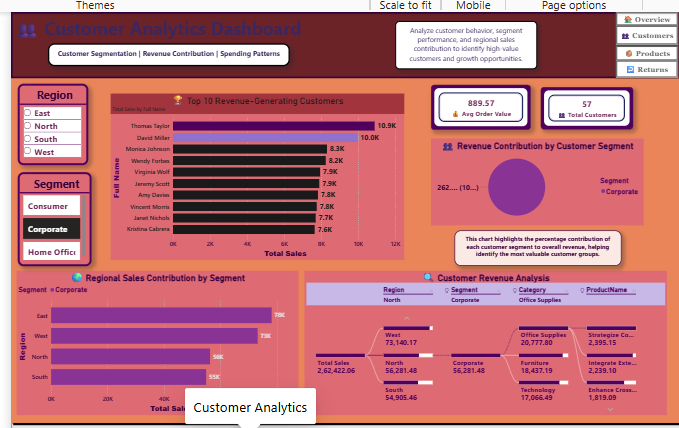

Layout of this report page (visuals, bound fields, positions):
{"tool":"powerbi","page":{"name":"Customer Analytics","canvas":[1800,1150],"ordinal":1},"visuals":[{"type":"textbox","box":[0,0,1798.9,178.8],"z":0},{"type":"cardVisual","fields":{"Data":["Measures_Table.Total Customers"]},"box":[1426.6,200.9,248.8,114.3],"z":1000},{"type":"cardVisual","fields":{"Data":["Measures_Table.Average Order Value"]},"box":[1131.7,197.2,269.1,121.6],"z":2000},{"type":"barChart","title":"🌍 Regional Sales Contribution by Segment","fields":{"Y":["Measures_Table.Total Sales"],"Category":["Customer_Dim.Region"],"Series":["Customer_Dim.Segment"]},"box":[14.7,696.7,759.4,388.9],"z":3000},{"type":"decompositionTreeVisual","title":"🔍 Customer Revenue Analysis","fields":{"Analyze":["Measures_Table.Total Sales"],"ExplainBy":["Customer_Dim.Region","Customer_Dim.Segment","Product_Dim.Category","Product_Dim.ProductName"]},"box":[790.7,696.7,976.9,388.9],"z":4000},{"type":"listSlicer","title":"Region","fields":{"Values":["Region_Dim.RegionName"]},"box":[18.4,193.5,189.8,219.3],"z":5000},{"type":"advancedSlicerVisual","fields":{"Values":["Customer_Dim.Segment"]},"box":[18.1,431.6,199.2,253.5],"z":6000},{"type":"clusteredBarChart","title":"🏆 Top 10 Revenue-Generating Customers","fields":{"Category":["Customer_Dim.Full Name"],"Y":["Measures_Table.Total Sales"]},"box":[267.3,221.2,790.7,447.9],"z":7000},{"type":"actionButton","title":"Overview","box":[1631,0,168.1,37.4],"z":8000},{"type":"actionButton","title":"Overview","box":[1631.2,130.9,167.7,47.9],"z":9000},{"type":"actionButton","title":"Overview","box":[1631,89.7,168.1,41.1],"z":10000},{"type":"actionButton","title":"Overview","box":[1631,37.4,168.1,52.3],"z":11000},{"type":"textbox","box":[99,84.1,652,61.7],"z":12000},{"type":"textbox","box":[1035,24.3,383,130.8],"z":13000},{"type":"pieChart","title":"👥 Revenue Contribution by Customer Segment","fields":{"Category":["Customer_Dim.Segment"],"Y":["Measures_Table.Total Sales"]},"box":[1131.7,341,573.2,234.1],"z":14000},{"type":"textbox","box":[1194.4,589.8,449.7,95.8],"z":15000},{"type":"textbox","box":[2.5,1110,1797.5,40],"z":16000},{"type":"shape","box":[5,1080,1795,60],"z":17000}]}

Visuals, with their boxes on the page's 1800x1150 design canvas (x1, y1, x2, y2). These are canvas units, not pixel positions in the 679x428 screenshot, which may show the page scaled, cropped or inside an application window:
textbox: {"x1": 0, "y1": 0, "x2": 1799, "y2": 179}
cardVisual - Measures_Table.Total Customers: {"x1": 1427, "y1": 201, "x2": 1675, "y2": 315}
cardVisual - Measures_Table.Average Order Value: {"x1": 1132, "y1": 197, "x2": 1401, "y2": 319}
"🌍 Regional Sales Contribution by Segment" barChart: {"x1": 15, "y1": 697, "x2": 774, "y2": 1086}
"🔍 Customer Revenue Analysis" decompositionTreeVisual: {"x1": 791, "y1": 697, "x2": 1768, "y2": 1086}
"Region" listSlicer: {"x1": 18, "y1": 194, "x2": 208, "y2": 413}
advancedSlicerVisual - Customer_Dim.Segment: {"x1": 18, "y1": 432, "x2": 217, "y2": 685}
"🏆 Top 10 Revenue-Generating Customers" clusteredBarChart: {"x1": 267, "y1": 221, "x2": 1058, "y2": 669}
"Overview" actionButton: {"x1": 1631, "y1": 0, "x2": 1799, "y2": 37}
"Overview" actionButton: {"x1": 1631, "y1": 131, "x2": 1799, "y2": 179}
"Overview" actionButton: {"x1": 1631, "y1": 90, "x2": 1799, "y2": 131}
"Overview" actionButton: {"x1": 1631, "y1": 37, "x2": 1799, "y2": 90}
textbox: {"x1": 99, "y1": 84, "x2": 751, "y2": 146}
textbox: {"x1": 1035, "y1": 24, "x2": 1418, "y2": 155}
"👥 Revenue Contribution by Customer Segment" pieChart: {"x1": 1132, "y1": 341, "x2": 1705, "y2": 575}
textbox: {"x1": 1194, "y1": 590, "x2": 1644, "y2": 686}
textbox: {"x1": 2, "y1": 1110, "x2": 1800, "y2": 1150}
shape: {"x1": 5, "y1": 1080, "x2": 1800, "y2": 1140}
